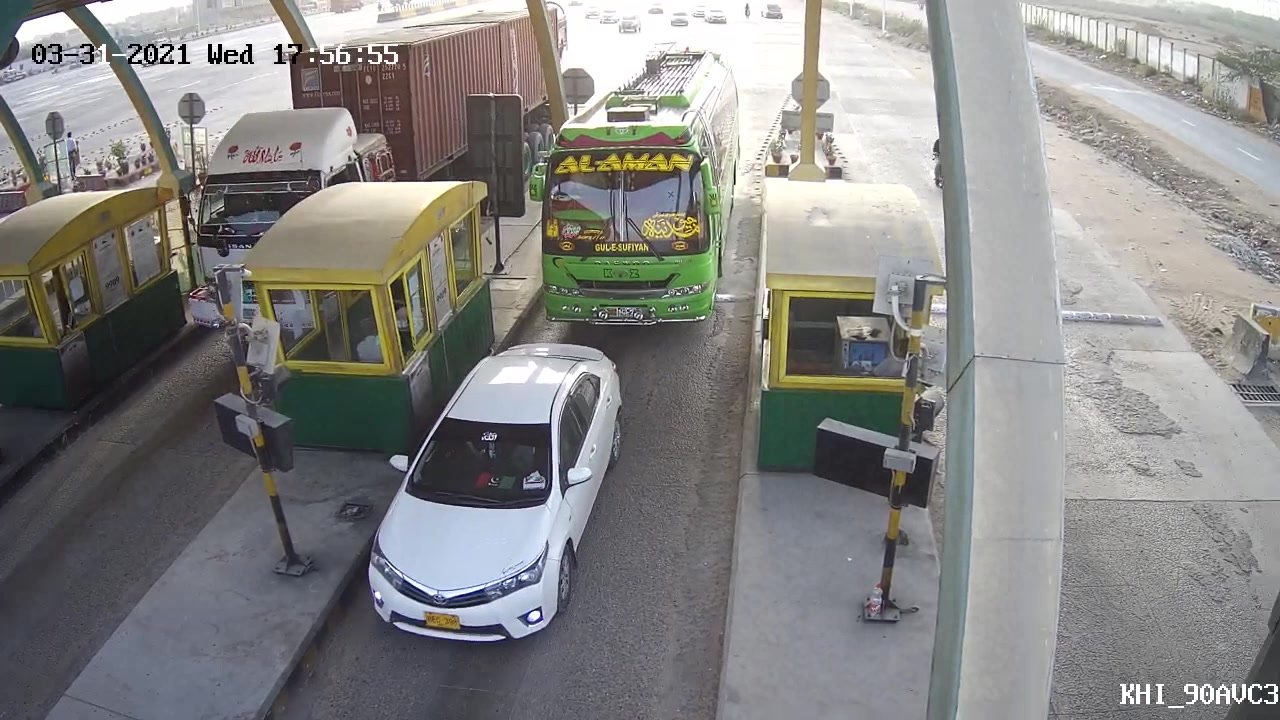F1: (361, 339, 637, 653)
F4: (526, 44, 750, 330)
